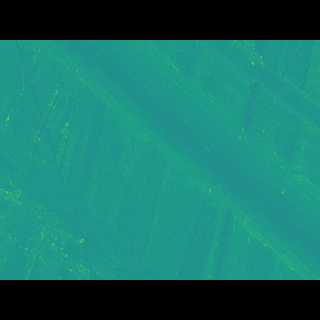Loch: (44, 69, 316, 251), (0, 136, 186, 250), (16, 195, 125, 248)
